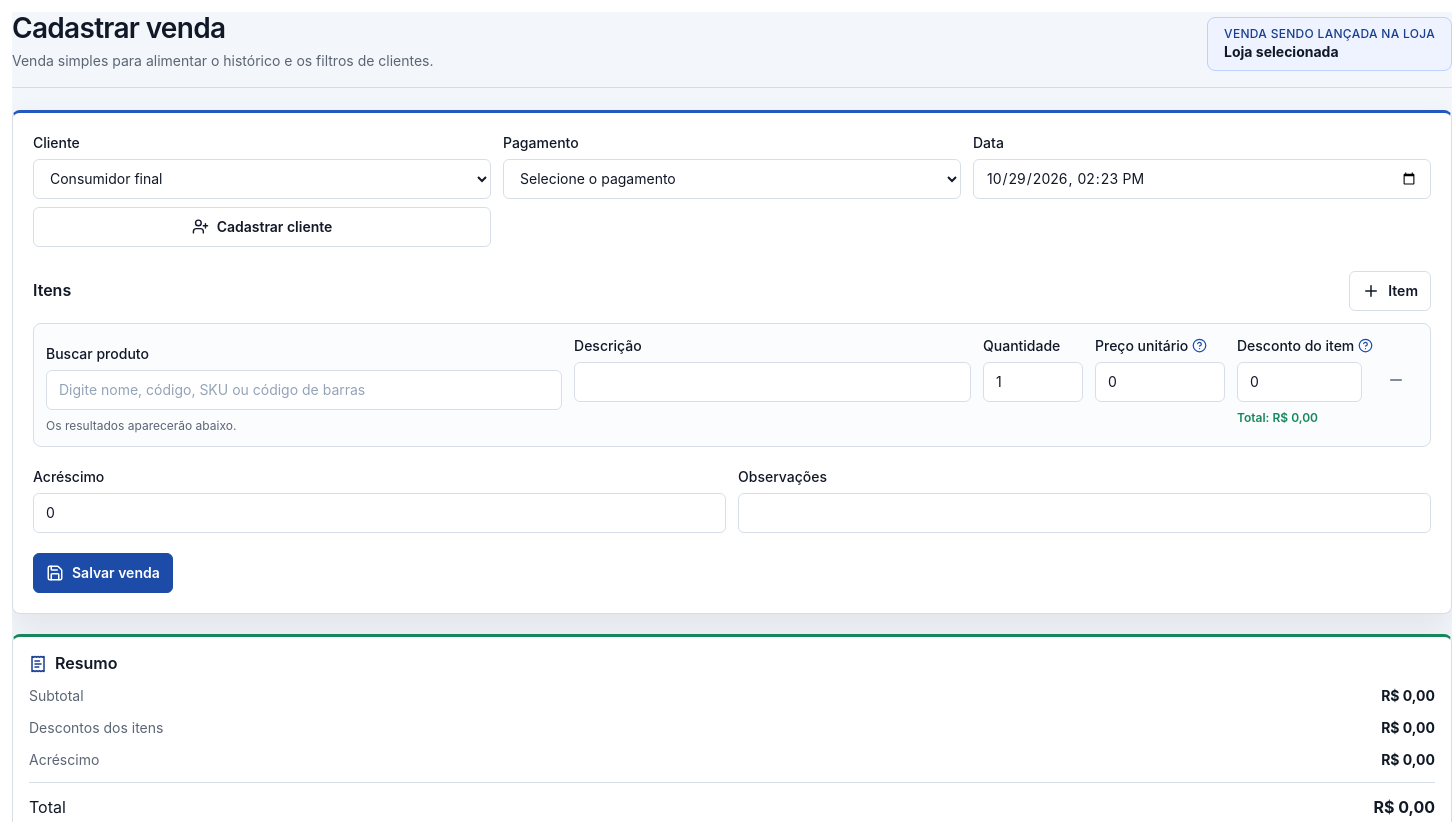
it: busca de produtos na venda › consulta e exibe produtos que não estão no primeiro lote da listagem
This screenshot has width=1452, height=822.
Type "golden" into the field with placeholder "Digite nome, código, SKU ou código de barras" at (304, 390), box [46, 370, 562, 410]
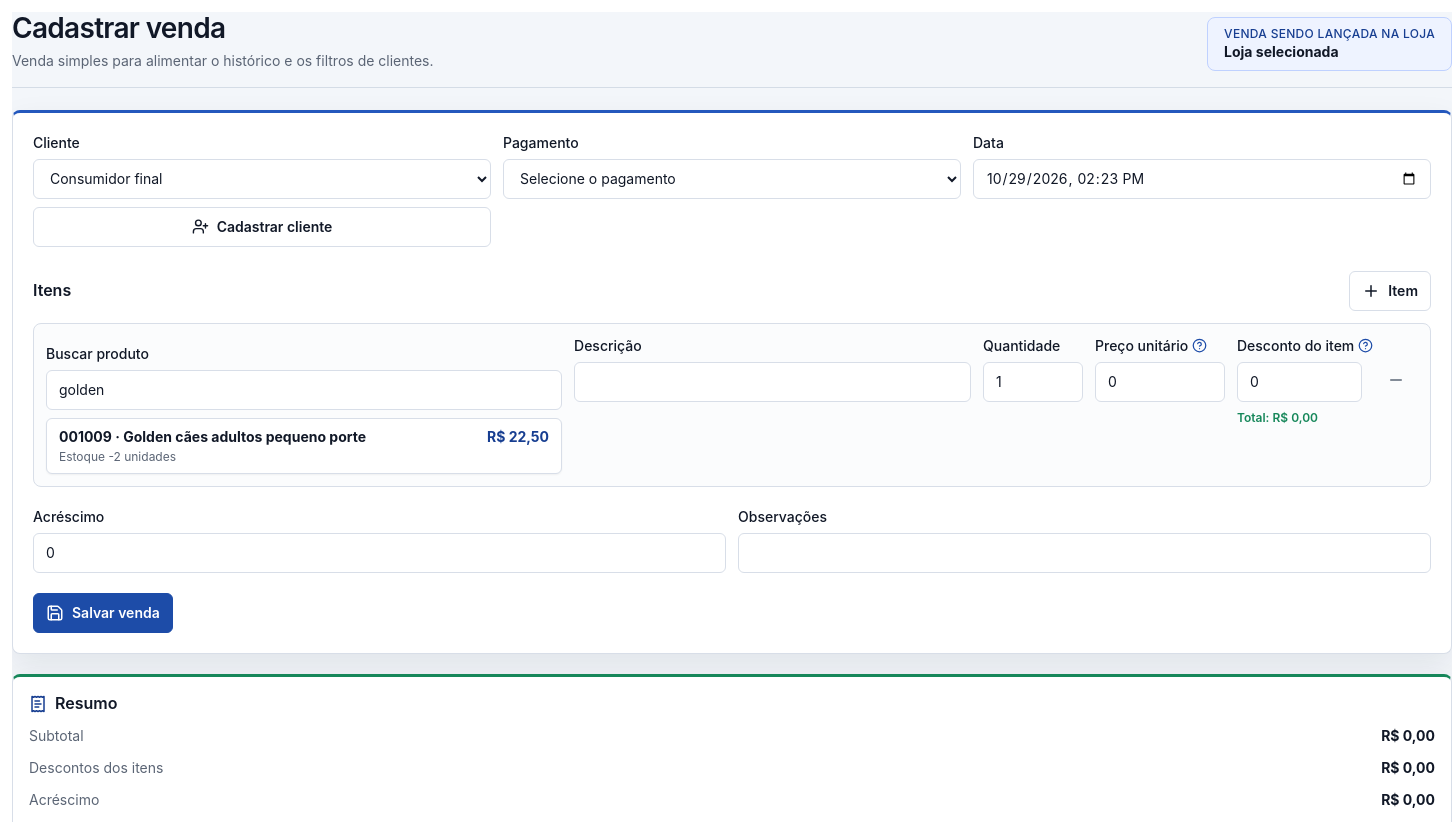
Expected: the text "001009 · Golden cães adultos pequeno porte" is shown, [59, 427, 366, 447]
Expected: the button "Golden cães adultos pequeno porte" is shown, [47, 419, 561, 473]
Expected: the text "R$ 22,50" is shown, [487, 427, 549, 447]
